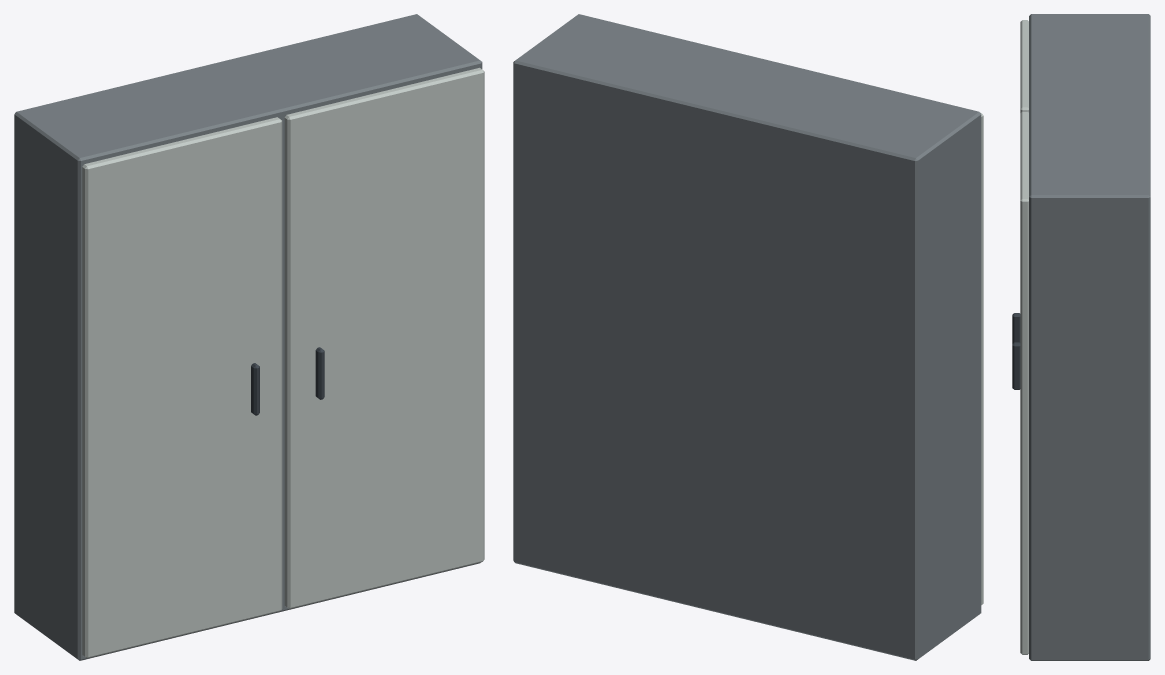
Rendered from ArchiveCabinetWide.fbx.
The picture shows the model from 3 angles, left to right: view 1: azimuth 30°, elevation 25°; view 2: azimuth 150°, elevation 25°; view 3: azimuth 270°, elevation 25°; orthographic projection. The views are drawn at different scales.
Parts seen in each view (by area): view 1: ArchiveCabinetWide; view 2: ArchiveCabinetWide; view 3: ArchiveCabinetWide.
Part boxes in pixels (box(x1,y1,x2,y2)): ArchiveCabinetWide: box(14, 14, 484, 660); ArchiveCabinetWide: box(513, 14, 983, 660); ArchiveCabinetWide: box(1012, 14, 1150, 660).
Size of the model in its own units: 160 by 190 by 51.25.
Materials: 1 (1 with a texture image).
